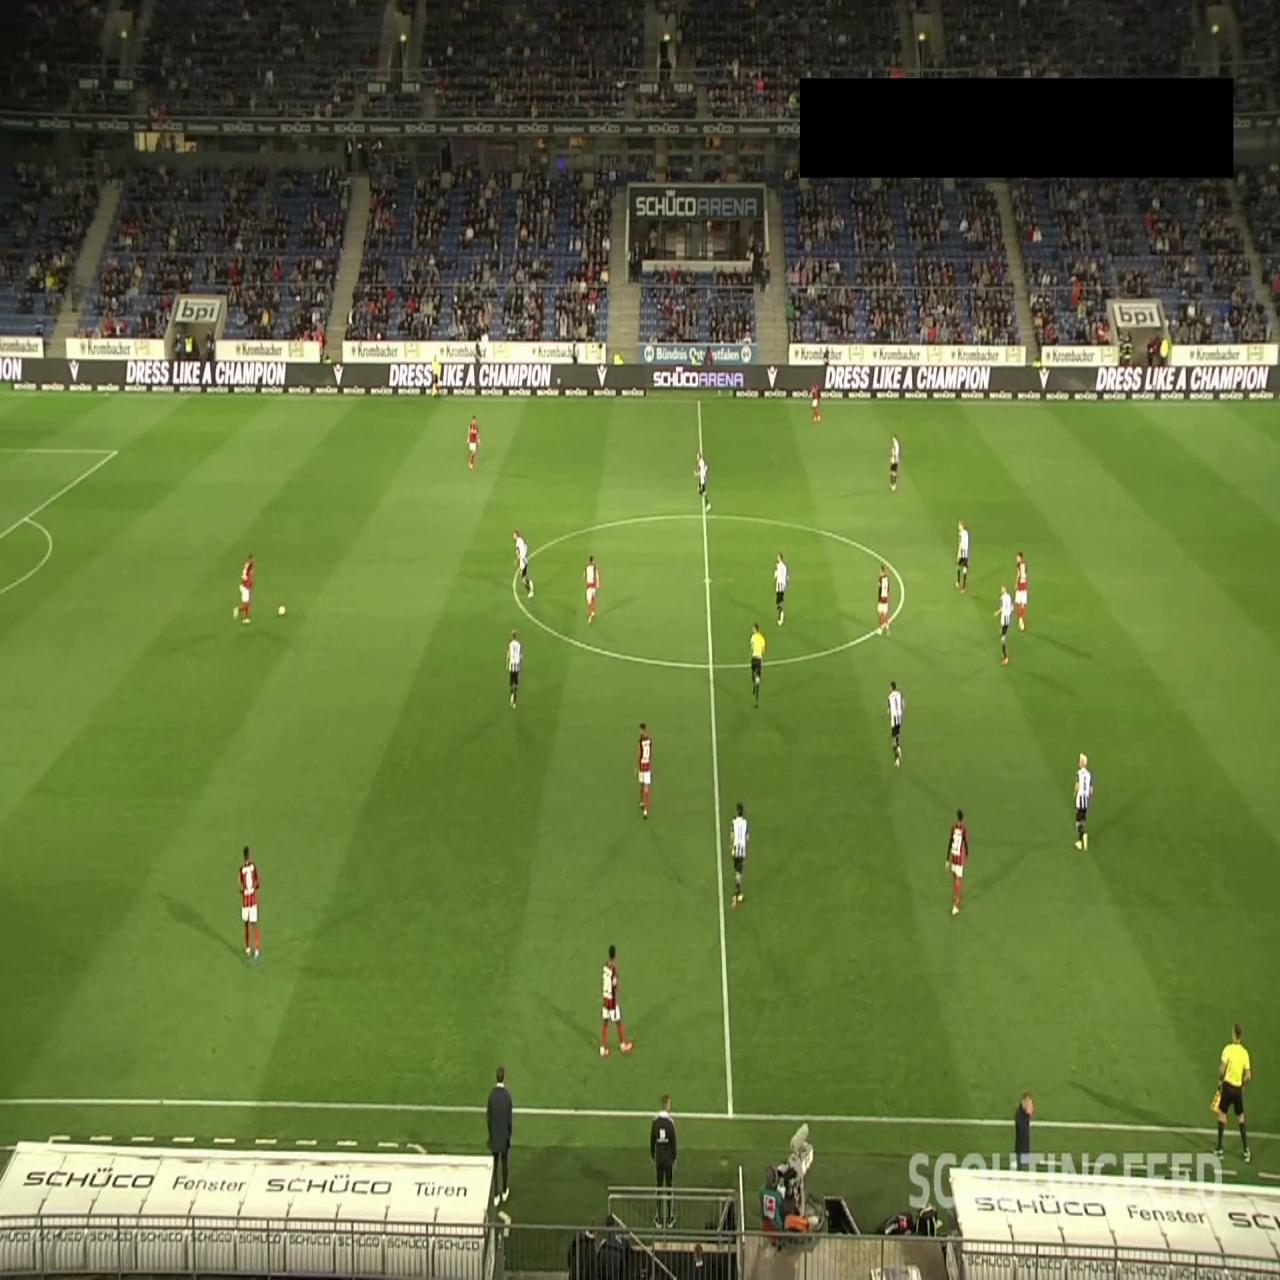Ball: (276, 603, 288, 619)
Player: (599, 942, 634, 1058), (238, 845, 262, 967), (945, 808, 969, 916), (1073, 751, 1094, 850), (730, 801, 749, 909), (636, 722, 653, 819), (886, 678, 904, 768), (234, 554, 256, 624), (512, 528, 534, 596), (994, 583, 1012, 665), (506, 628, 522, 711), (1013, 550, 1029, 632), (772, 551, 788, 626), (584, 554, 601, 624), (694, 450, 712, 515), (955, 520, 969, 594), (876, 564, 890, 638), (466, 414, 481, 472), (889, 434, 901, 492), (810, 378, 822, 426)
Referee: (1213, 1022, 1253, 1162), (749, 620, 766, 709), (430, 353, 440, 398)
